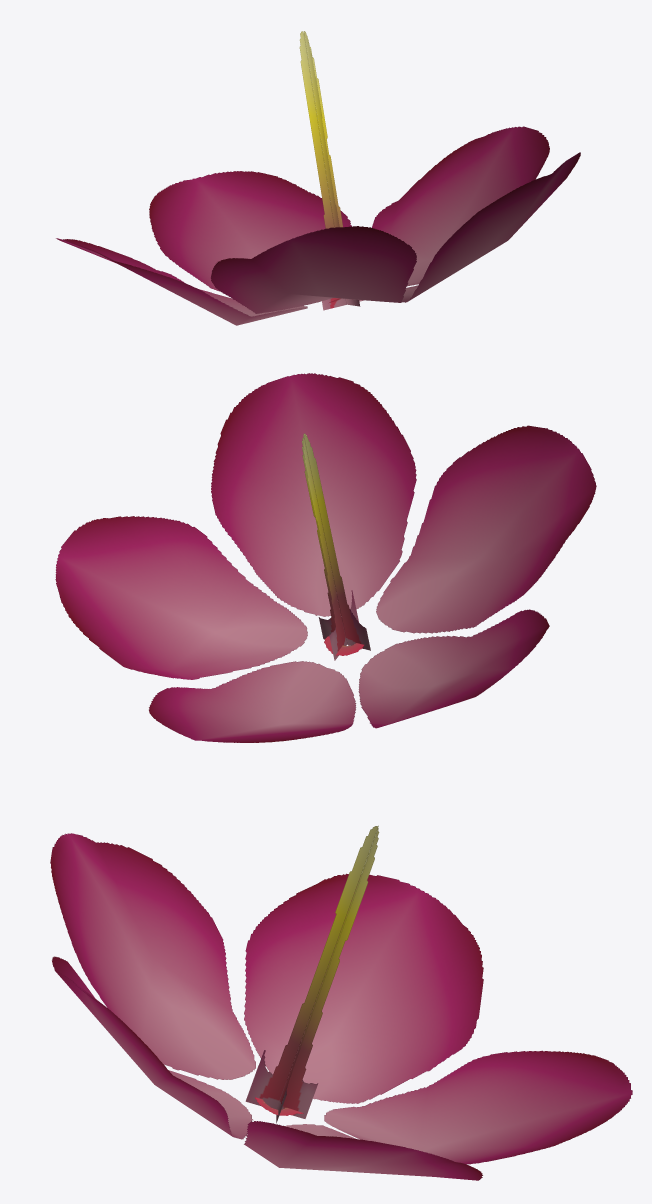
The model's file is Flower.fbx.
The picture shows the model from 3 angles, top to bottom: view 1: azimuth 30°, elevation 25°; view 2: azimuth 150°, elevation 25°; view 3: azimuth 270°, elevation 25°; orthographic projection. The views are drawn at different scales.
Visible parts, largest first — view 1: Flower_stem; view 2: Flower_stem; view 3: Flower_stem.
Boxes of the visible parts, x1,y1,x2,y2 form: Flower_stem: (56, 31, 580, 325); Flower_stem: (55, 373, 596, 742); Flower_stem: (50, 825, 632, 1180).
Bounding box in the file's own units: 22.35 × 12.82 × 21.01.
